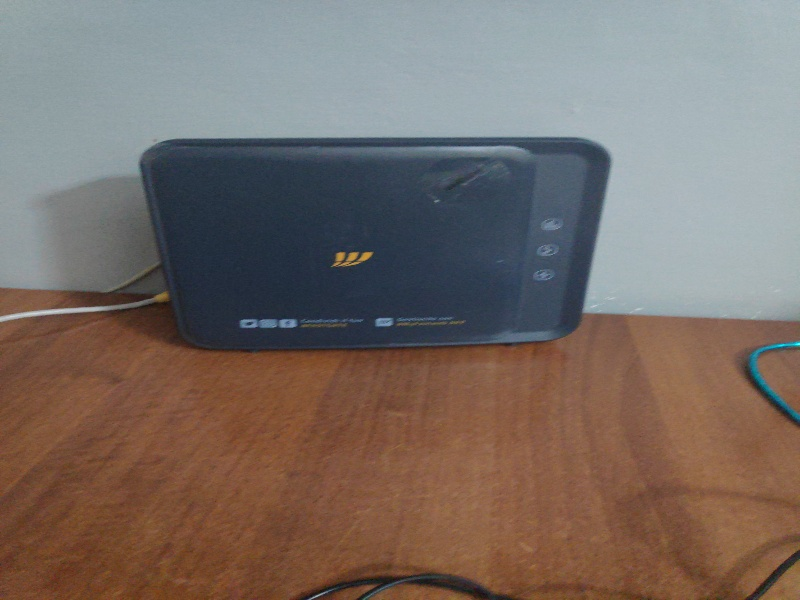router: (138, 135, 616, 356)
